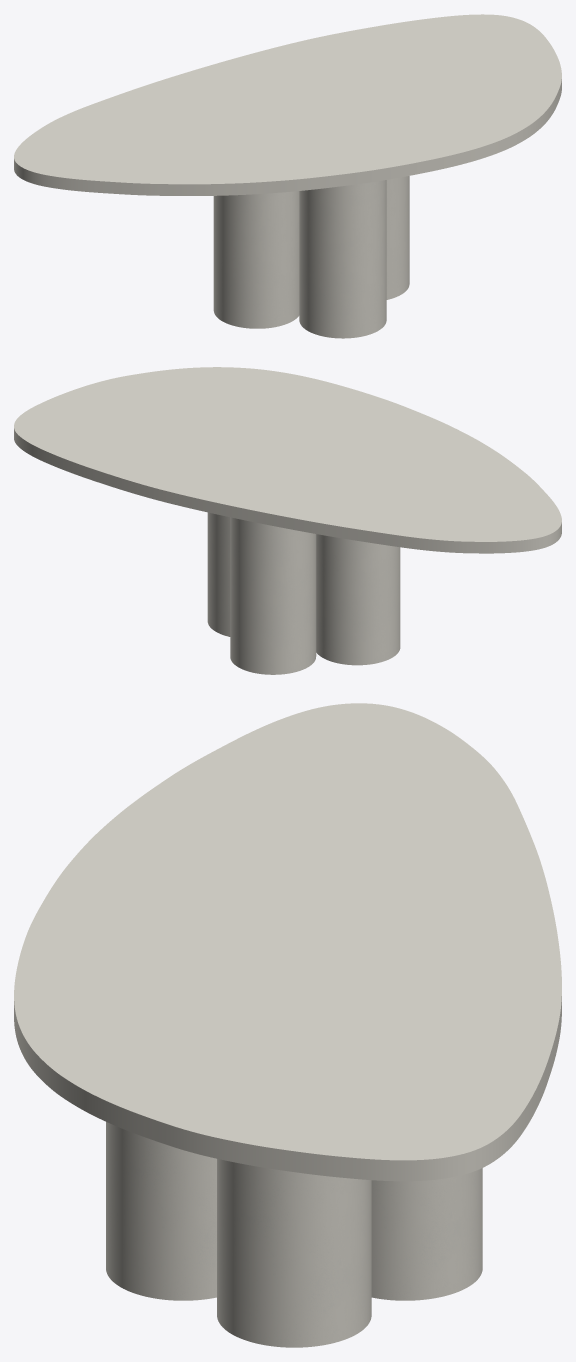
File: pale_pebbletop_standard_secondtable.glb
3 renders of one model, top to bottom at view 1: azimuth 30°, elevation 25°; view 2: azimuth 150°, elevation 25°; view 3: azimuth 270°, elevation 25°, orthographic. The views are drawn at different scales.
Visible parts, largest first — view 1: standard_pebbletop, secondtable; view 2: standard_pebbletop, secondtable; view 3: standard_pebbletop, secondtable.
Part boxes in pixels (x1=…): standard_pebbletop: x1=14, y1=14, x2=561, y2=195; secondtable: x1=213, y1=176, x2=409, y2=338; standard_pebbletop: x1=14, y1=367, x2=561, y2=553; secondtable: x1=207, y1=512, x2=400, y2=674; standard_pebbletop: x1=14, y1=703, x2=561, y2=1181; secondtable: x1=106, y1=1122, x2=482, y2=1347.
Bounding box in the file's own units: 7.5 × 2.51 × 3.8.
Materials: 1 (1 with a texture image).
